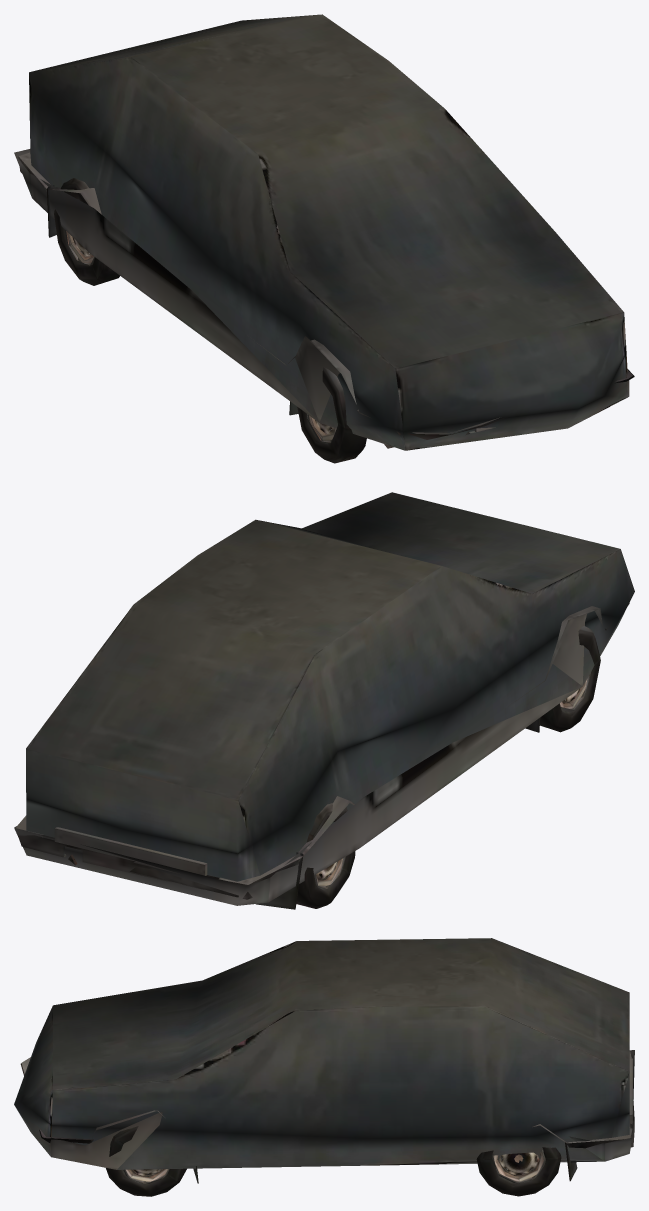
Rendered from tarp_car.glb.
The picture shows the model from 3 angles, top to bottom: view 1: azimuth 30°, elevation 25°; view 2: azimuth 150°, elevation 25°; view 3: azimuth 270°, elevation 25°; orthographic projection. The views are drawn at different scales.
Parts seen in each view (by area): view 1: covered_car_wheel_02; view 2: covered_car_wheel_02; view 3: covered_car_wheel_02, covered_car_wheel_01.
Boxes of the visible parts, x1,y1,x2,y2 form: covered_car_wheel_02: (14,14,634,463); covered_car_wheel_02: (14,492,634,909); covered_car_wheel_02: (14,938,634,1183); covered_car_wheel_01: (106,1126,561,1196).
Size of the model in its own units: 1.74 by 1.37 by 4.3.
1 material, 1 textured.
